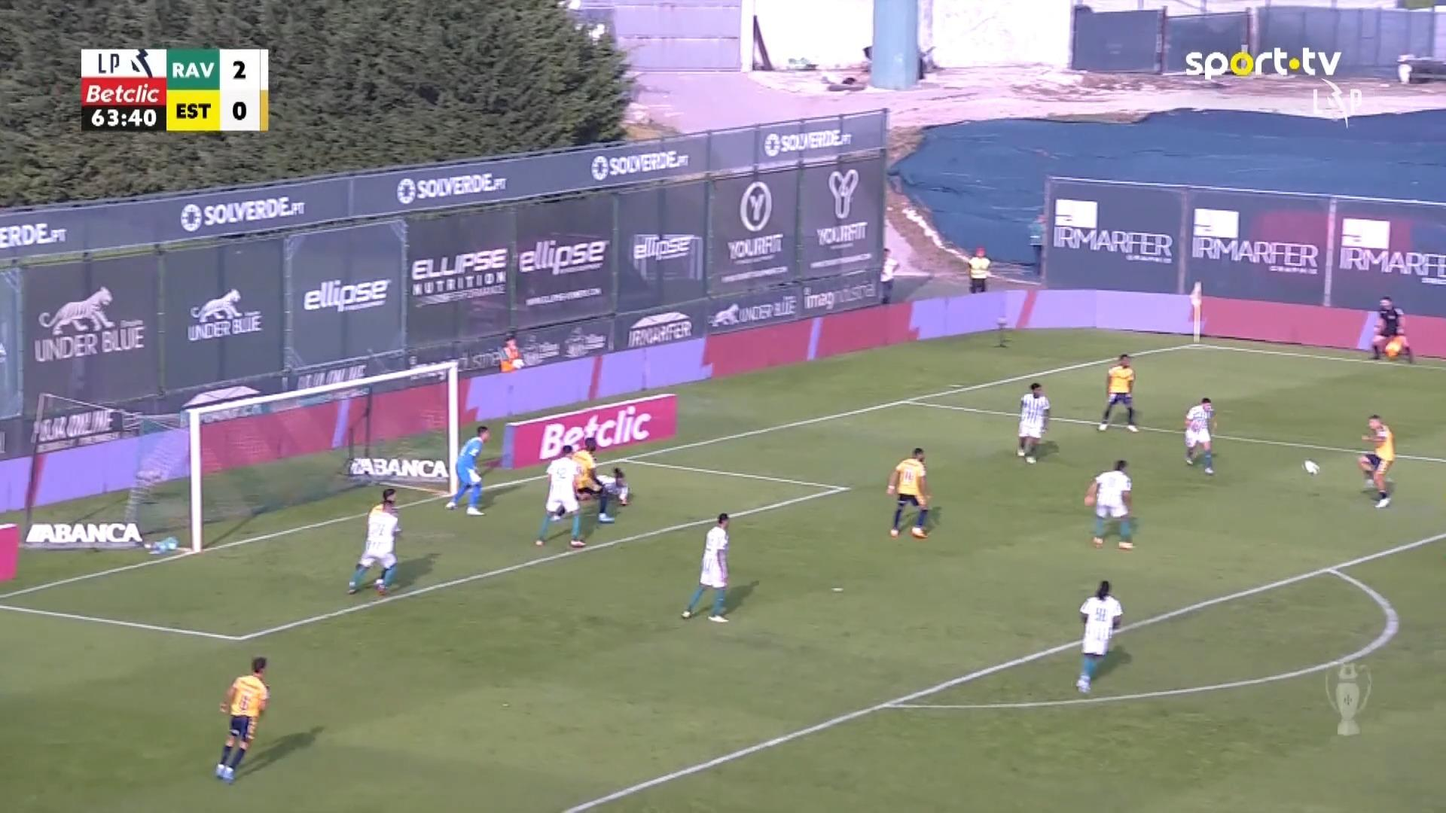ball: (1304, 458, 1319, 474)
goalkeeper: (445, 424, 490, 516)
player: (214, 655, 270, 784), (346, 486, 402, 595), (680, 512, 731, 623), (1074, 579, 1123, 693), (534, 443, 587, 548), (1083, 458, 1136, 549), (886, 446, 932, 538), (570, 436, 616, 522), (1358, 413, 1396, 507), (1097, 352, 1139, 431), (1016, 381, 1050, 464), (1182, 396, 1217, 474), (593, 465, 629, 522)
referee: (1369, 296, 1408, 361)
